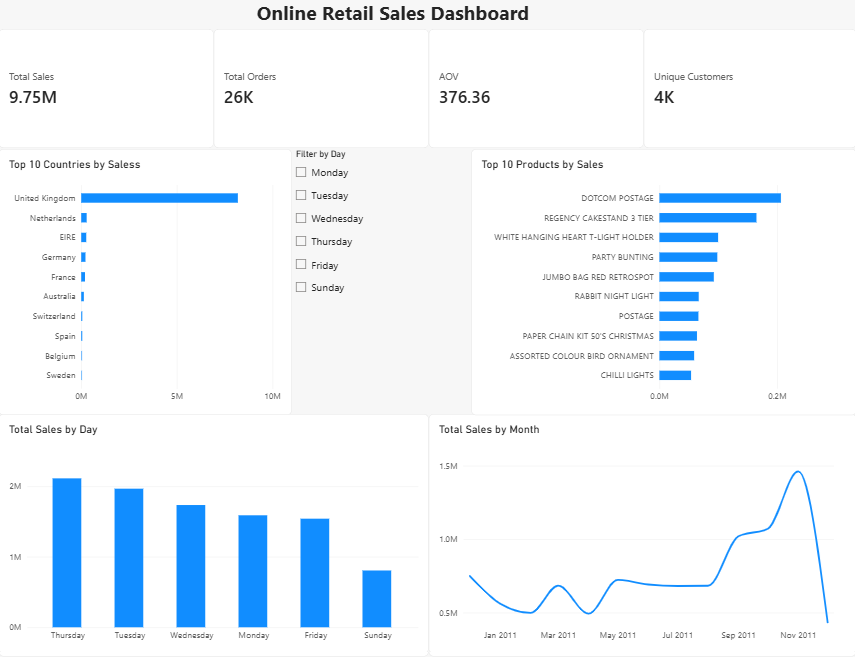

The dashboard page shown, as its layout file describes it:
{"tool":"powerbi","page":{"name":"Online Retail Sales Dashboard","canvas":[1920,1080],"ordinal":0},"visuals":[{"type":"cardVisual","fields":{"Data":["online_retail_analytics online_retail_final.Total Sales"]},"box":[310,50,354,196],"z":0},{"type":"cardVisual","fields":{"Data":["online_retail_analytics online_retail_final.Total Orders"]},"box":[664,50,354,196],"z":1000},{"type":"cardVisual","fields":{"Data":["online_retail_analytics online_retail_final.Unique Customers"]},"box":[1372,50,350,196],"z":2000},{"type":"cardVisual","fields":{"Data":["online_retail_analytics online_retail_final.AOV"]},"box":[1018,50,354,196],"z":3000},{"type":"clusteredBarChart","title":"Top 10 Countries by Saless","fields":{"Category":["online_retail_analytics online_retail_final.country"],"Y":["online_retail_analytics online_retail_final.Total Sales"]},"box":[310,246,482,438],"z":4000},{"type":"lineChart","title":"Total Sales by Month","fields":{"Y":["online_retail_analytics online_retail_final.Total Sales"],"Category":["online_retail_analytics online_retail_final.invoice_date.Variation.Date Hierarchy.Year","online_retail_analytics online_retail_final.invoice_date.Variation.Date Hierarchy.Month"]},"box":[1018,684,704,396],"z":5000},{"type":"clusteredBarChart","title":"Top 10 Products by Sales","fields":{"Category":["online_retail_analytics online_retail_final.description"],"Y":["online_retail_analytics online_retail_final.Total Sales"]},"box":[1088,246,634,438],"z":6000},{"type":"clusteredColumnChart","title":"Total Sales by Day","fields":{"Category":["online_retail_analytics online_retail_final.Day Name"],"Y":["online_retail_analytics online_retail_final.Total Sales"]},"box":[310,684,708,396],"z":7000},{"type":"textbox","box":[716.3,0,487.8,63.8],"z":8000},{"type":"slicer","fields":{"Values":["online_retail_analytics online_retail_final.Day Name"]},"box":[792.5,247,296.4,436.4],"z":9000}]}

Visuals, with their boxes on the page's 1920x1080 design canvas (x1, y1, x2, y2). These are canvas units, not pixel positions in the 858x657 screenshot, which may show the page scaled, cropped or inside an application window:
cardVisual - online_retail_analytics online_retail_final.Total Sales: pyautogui.locateOnScreen(310, 50, 664, 246)
cardVisual - online_retail_analytics online_retail_final.Total Orders: pyautogui.locateOnScreen(664, 50, 1018, 246)
cardVisual - online_retail_analytics online_retail_final.Unique Customers: pyautogui.locateOnScreen(1372, 50, 1722, 246)
cardVisual - online_retail_analytics online_retail_final.AOV: pyautogui.locateOnScreen(1018, 50, 1372, 246)
"Top 10 Countries by Saless" clusteredBarChart: pyautogui.locateOnScreen(310, 246, 792, 684)
"Total Sales by Month" lineChart: pyautogui.locateOnScreen(1018, 684, 1722, 1080)
"Top 10 Products by Sales" clusteredBarChart: pyautogui.locateOnScreen(1088, 246, 1722, 684)
"Total Sales by Day" clusteredColumnChart: pyautogui.locateOnScreen(310, 684, 1018, 1080)
textbox: pyautogui.locateOnScreen(716, 0, 1204, 64)
slicer - online_retail_analytics online_retail_final.Day Name: pyautogui.locateOnScreen(792, 247, 1089, 683)
